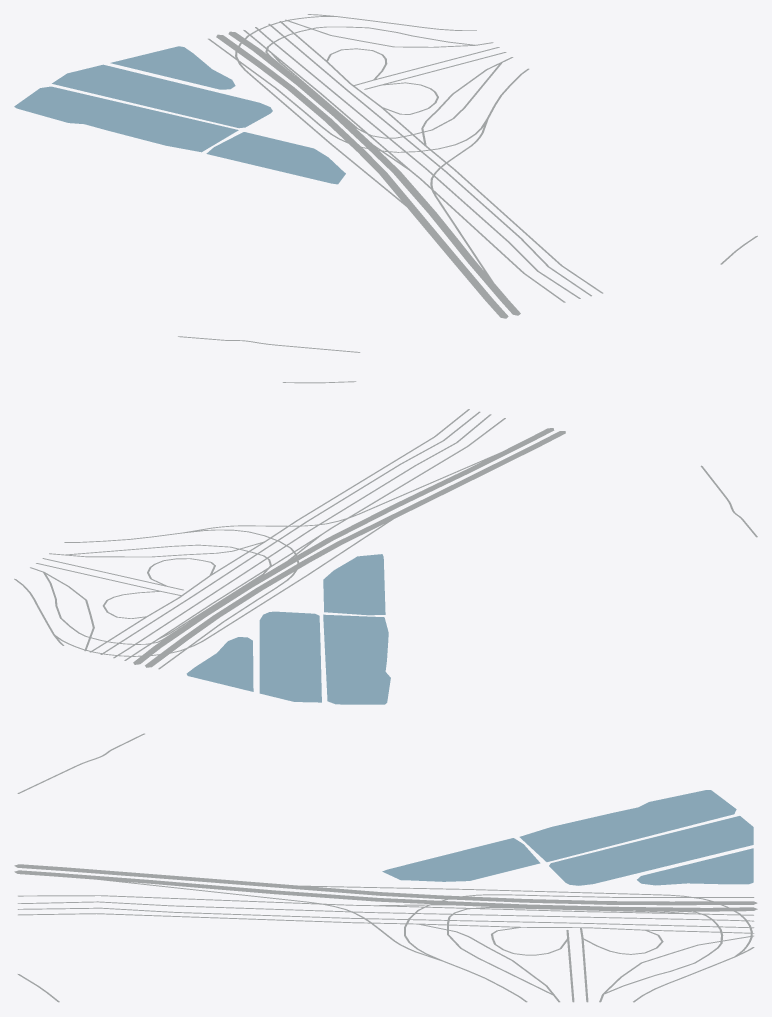
The model's file is -27_15-known-fine.glb.
The picture shows the model from 3 angles, top to bottom: view 1: azimuth 30°, elevation 25°; view 2: azimuth 150°, elevation 25°; view 3: azimuth 270°, elevation 25°; orthographic projection. The views are drawn at different scales.
Size of the model in its own units: 861 by 0.1 by 1007.
